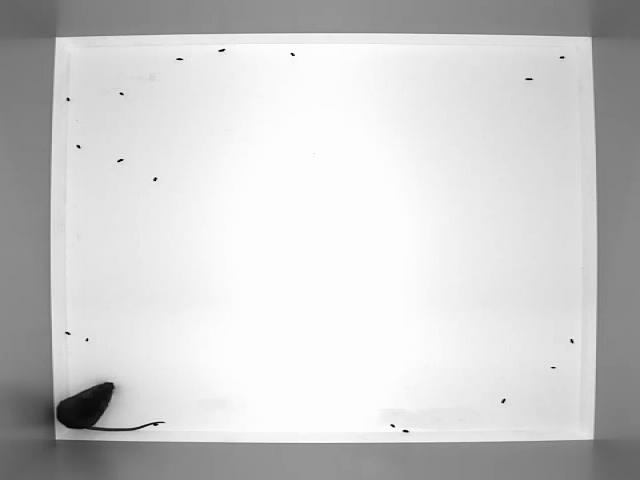Tikus: (59, 381, 166, 432)
